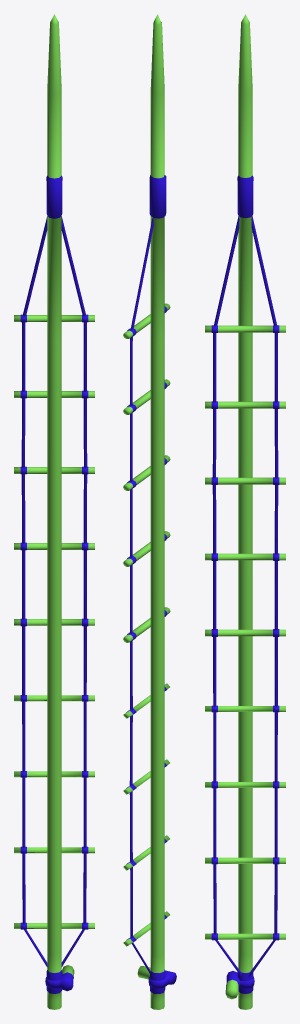
Rendered from SM_WindMast1.fbx.
3 renders of one model, left to right at view 1: azimuth 90°, elevation 25°; view 2: azimuth 150°, elevation 25°; view 3: azimuth 270°, elevation 25°, orthographic.
Parts seen in each view (by area): view 1: SM_TIpairua_Sails.002; view 2: SM_TIpairua_Sails.002; view 3: SM_TIpairua_Sails.002.
Part boxes in pixels (left/top/right/bottom): SM_TIpairua_Sails.002: left=14, top=14, right=94, bottom=1009; SM_TIpairua_Sails.002: left=123, top=14, right=176, bottom=1009; SM_TIpairua_Sails.002: left=205, top=14, right=285, bottom=1009.
Size of the model in its own units: 96.61 by 48.66 by 1307.
